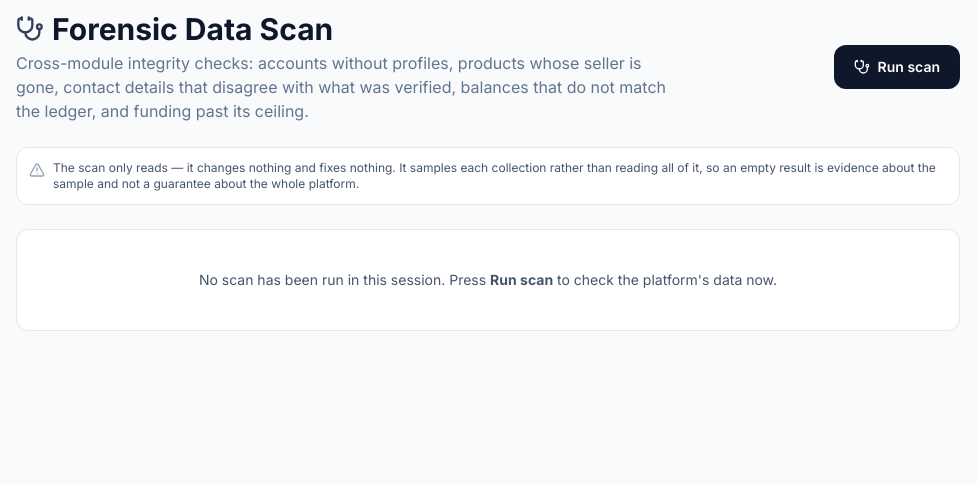
Scenario: #266 — what it shows when the scan does run › "could not check" IS ITS OWN STATE, not folded in with pass
Click the button "Run scan".
click(897, 67)  # box [834,45,960,89]
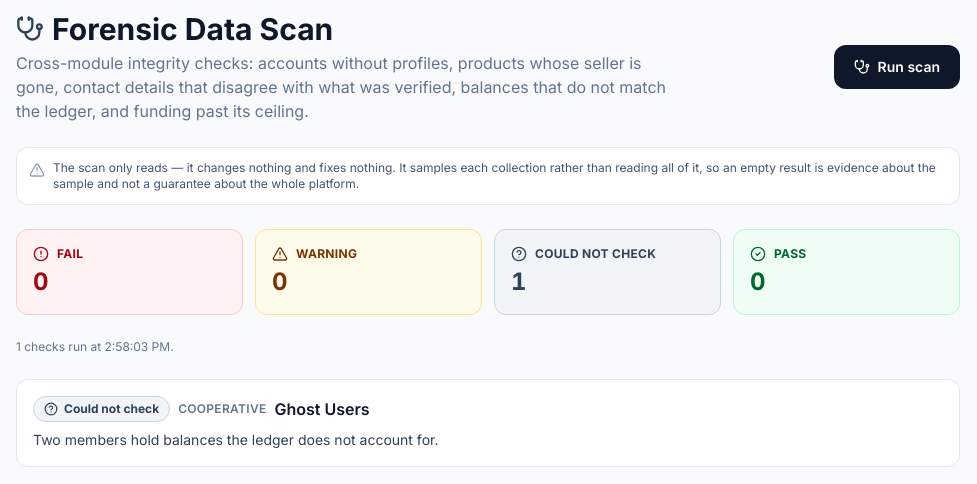
Expected: the text with test id "count-inconclusive" reads "1", [511,267,526,296]
Expected: the text with test id "count-pass" reads "0", [750,267,766,296]
